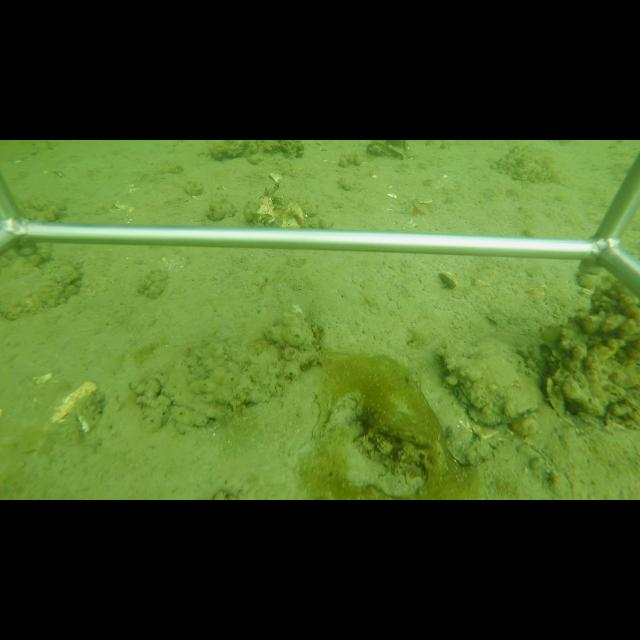Oyster-Closed: (435, 336, 545, 426), (438, 268, 458, 290)
